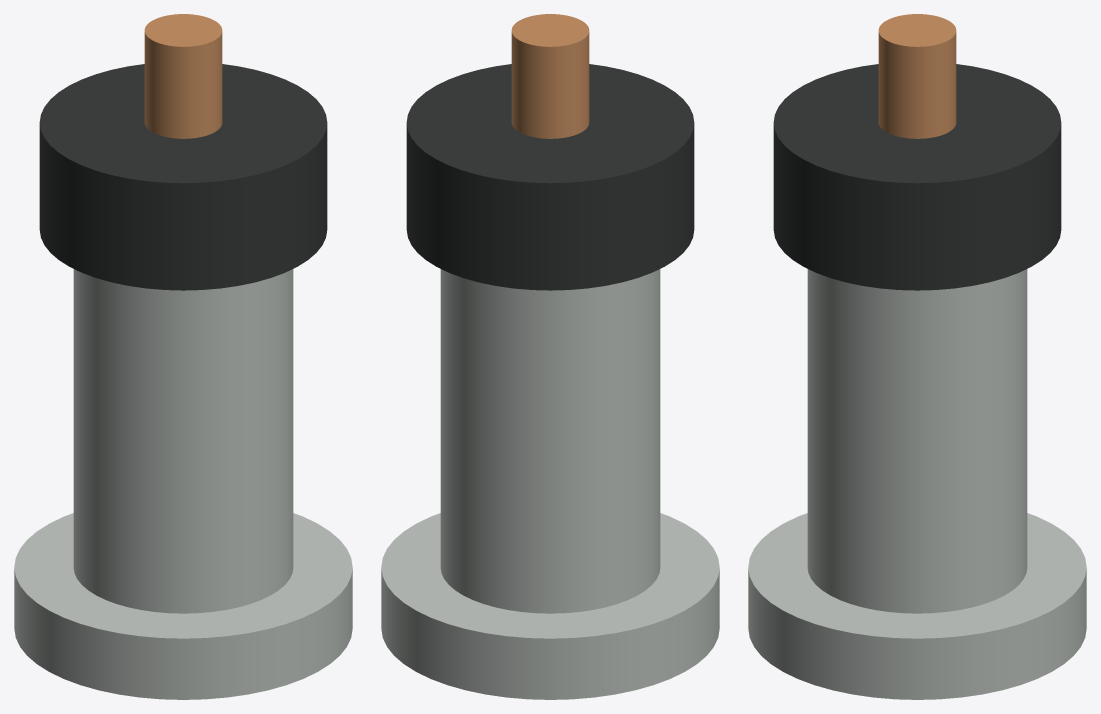
File: spacecraft-thermal-test-chamber-vacuum-gauge-head-aec701ab__32049.glb
3 views of the same model, side by side, from view 1: azimuth 30°, elevation 25°; view 2: azimuth 150°, elevation 25°; view 3: azimuth 270°, elevation 25° (orthographic).
Parts seen in each view (by area): view 1: vacuum-gauge-head; view 2: vacuum-gauge-head; view 3: vacuum-gauge-head.
Part boxes in pixels (bbox=[...]): vacuum-gauge-head: bbox=[14, 14, 352, 699]; vacuum-gauge-head: bbox=[381, 14, 719, 699]; vacuum-gauge-head: bbox=[748, 14, 1086, 699].
Bounding box in the file's own units: 0.2 × 0.39 × 0.2.
